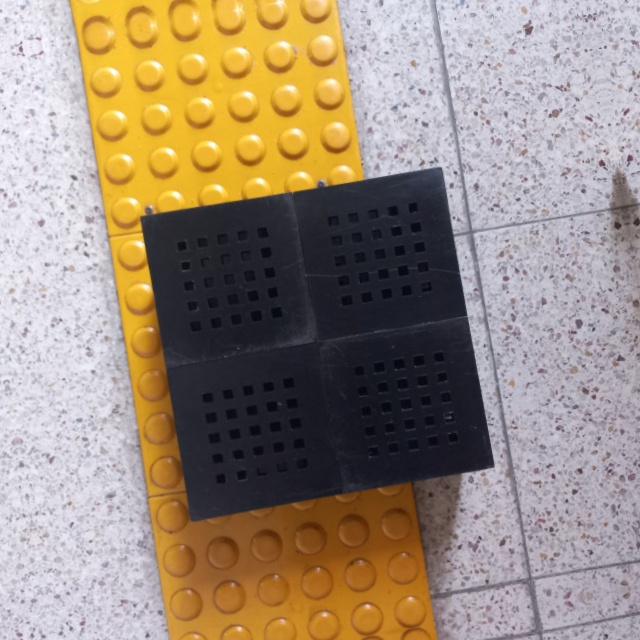pallet: (132, 156, 502, 529)
